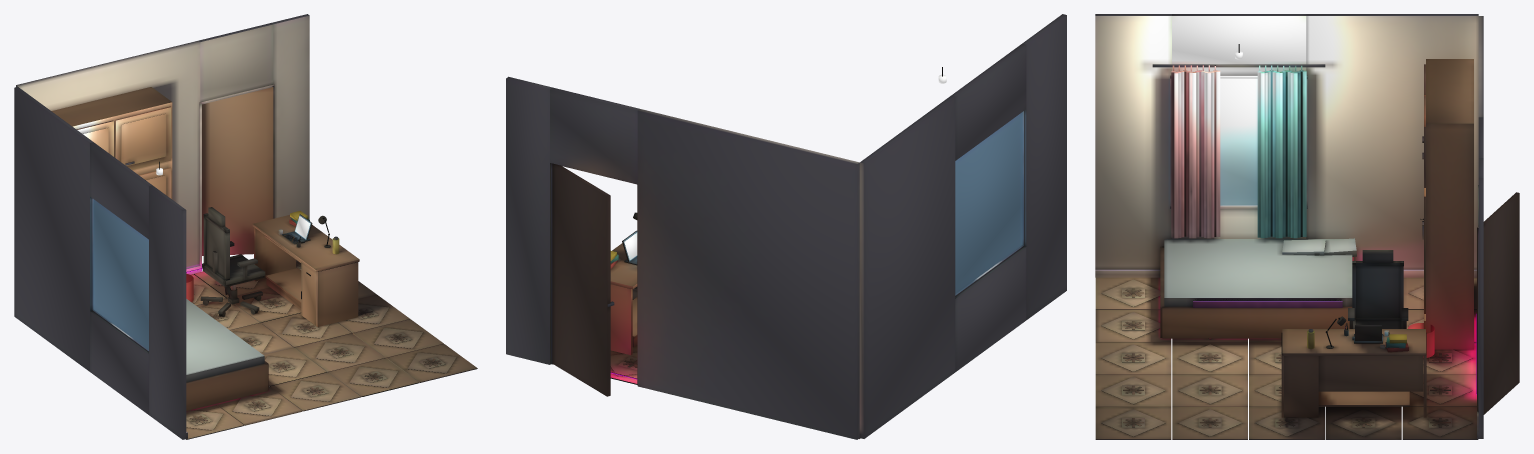
Rendered from room_baked_combined.glb.
The picture shows the model from 3 angles, left to right: view 1: azimuth 30°, elevation 25°; view 2: azimuth 150°, elevation 25°; view 3: azimuth 270°, elevation 25°; orthographic projection. The views are drawn at different scales.
Visible parts, largest first — view 1: Baked_Room_Mesh; view 2: Baked_Room_Mesh; view 3: Baked_Room_Mesh.
Boxes of the visible parts, bbox=[...] form: Baked_Room_Mesh: bbox=[14, 14, 477, 439]; Baked_Room_Mesh: bbox=[506, 14, 1066, 439]; Baked_Room_Mesh: bbox=[1095, 14, 1519, 439].
Size of the model in its own units: 4.05 by 3.01 by 4.43.
Materials: 1 (1 with a texture image).
